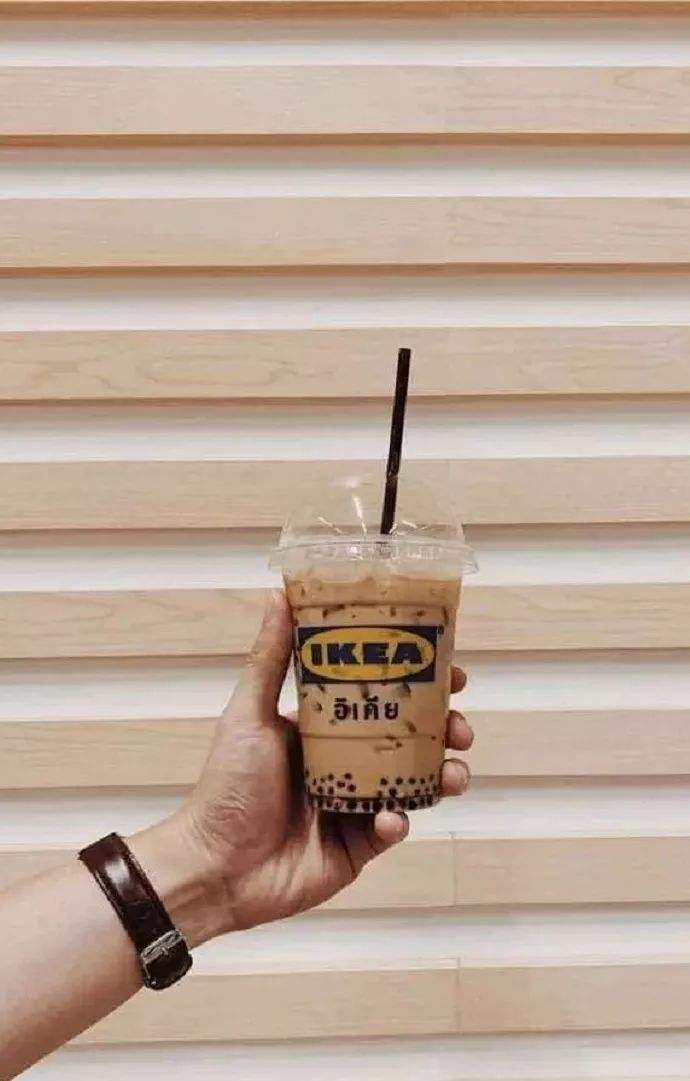no-phone: (187, 490, 488, 936)
